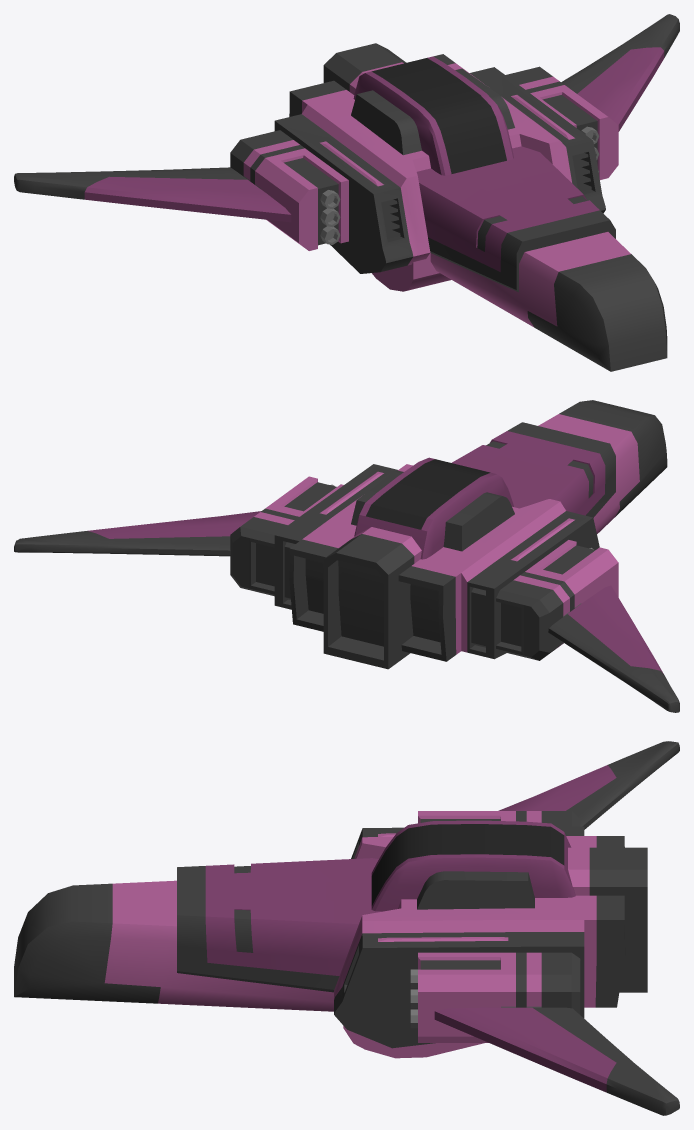
Rendered from ship-b.glb.
The picture shows the model from 3 angles, top to bottom: view 1: azimuth 30°, elevation 25°; view 2: azimuth 150°, elevation 25°; view 3: azimuth 270°, elevation 25°; orthographic projection. The views are drawn at different scales.
Visible parts, largest first — view 1: Spaceship_FernandoTheFlamingo; view 2: Spaceship_FernandoTheFlamingo; view 3: Spaceship_FernandoTheFlamingo.
Boxes of the visible parts, <box> form: Spaceship_FernandoTheFlamingo: <box>14,14,679,371</box>; Spaceship_FernandoTheFlamingo: <box>14,400,679,712</box>; Spaceship_FernandoTheFlamingo: <box>14,741,679,1115</box>.
Size of the model in its own units: 11.14 by 2.53 by 8.66.
1 material, 1 textured.
